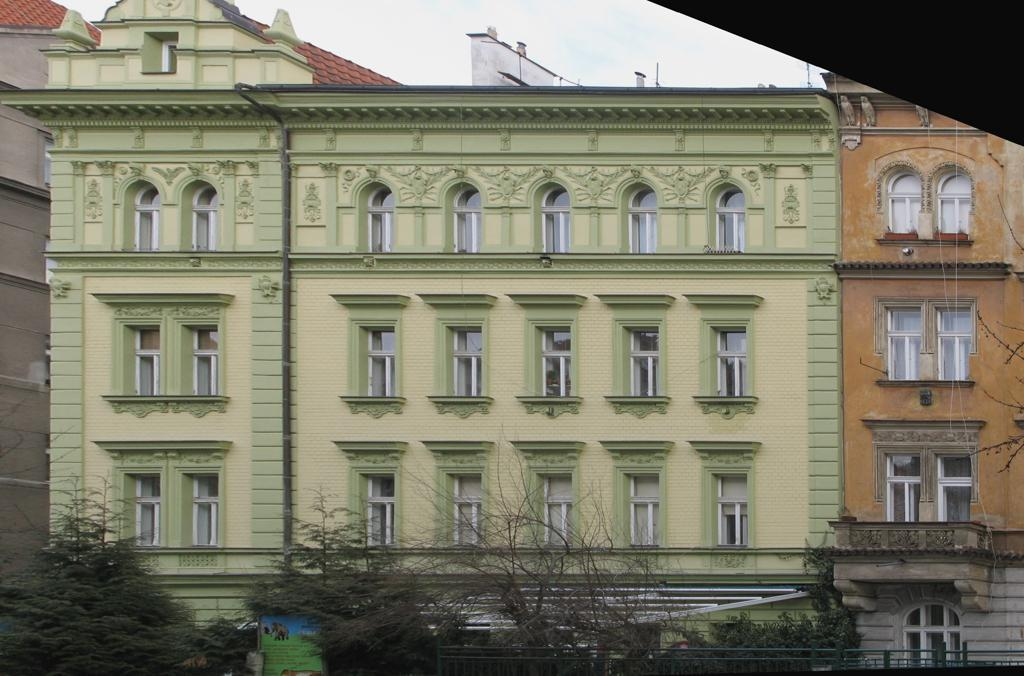window: (897, 602, 960, 674), (123, 178, 161, 251), (182, 179, 220, 252), (620, 182, 658, 255), (709, 180, 747, 253), (884, 166, 922, 239), (933, 167, 971, 240), (883, 307, 921, 380), (934, 307, 971, 381), (356, 181, 394, 253), (534, 181, 572, 253), (445, 180, 482, 253), (183, 473, 219, 548), (360, 473, 396, 548), (711, 473, 747, 548), (446, 474, 482, 548), (536, 474, 572, 548), (624, 474, 660, 548), (885, 455, 921, 529), (182, 325, 219, 396), (125, 473, 160, 548), (359, 326, 395, 398), (445, 326, 481, 398), (711, 326, 747, 398), (936, 455, 971, 529), (534, 327, 570, 398), (125, 325, 160, 397), (624, 327, 659, 398), (143, 32, 177, 72)
